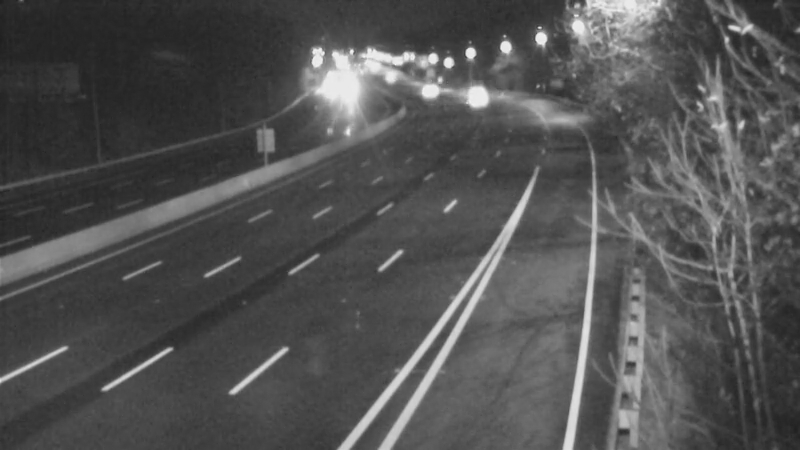vehicle: (401, 66, 451, 116), (449, 74, 499, 124), (319, 72, 369, 122)
